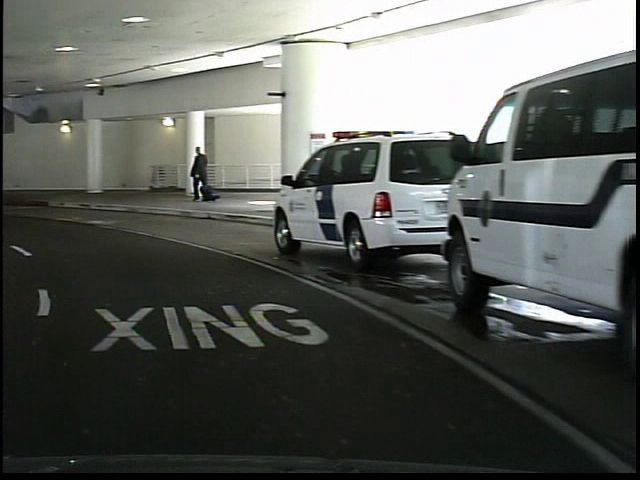person: (185, 145, 209, 204)
